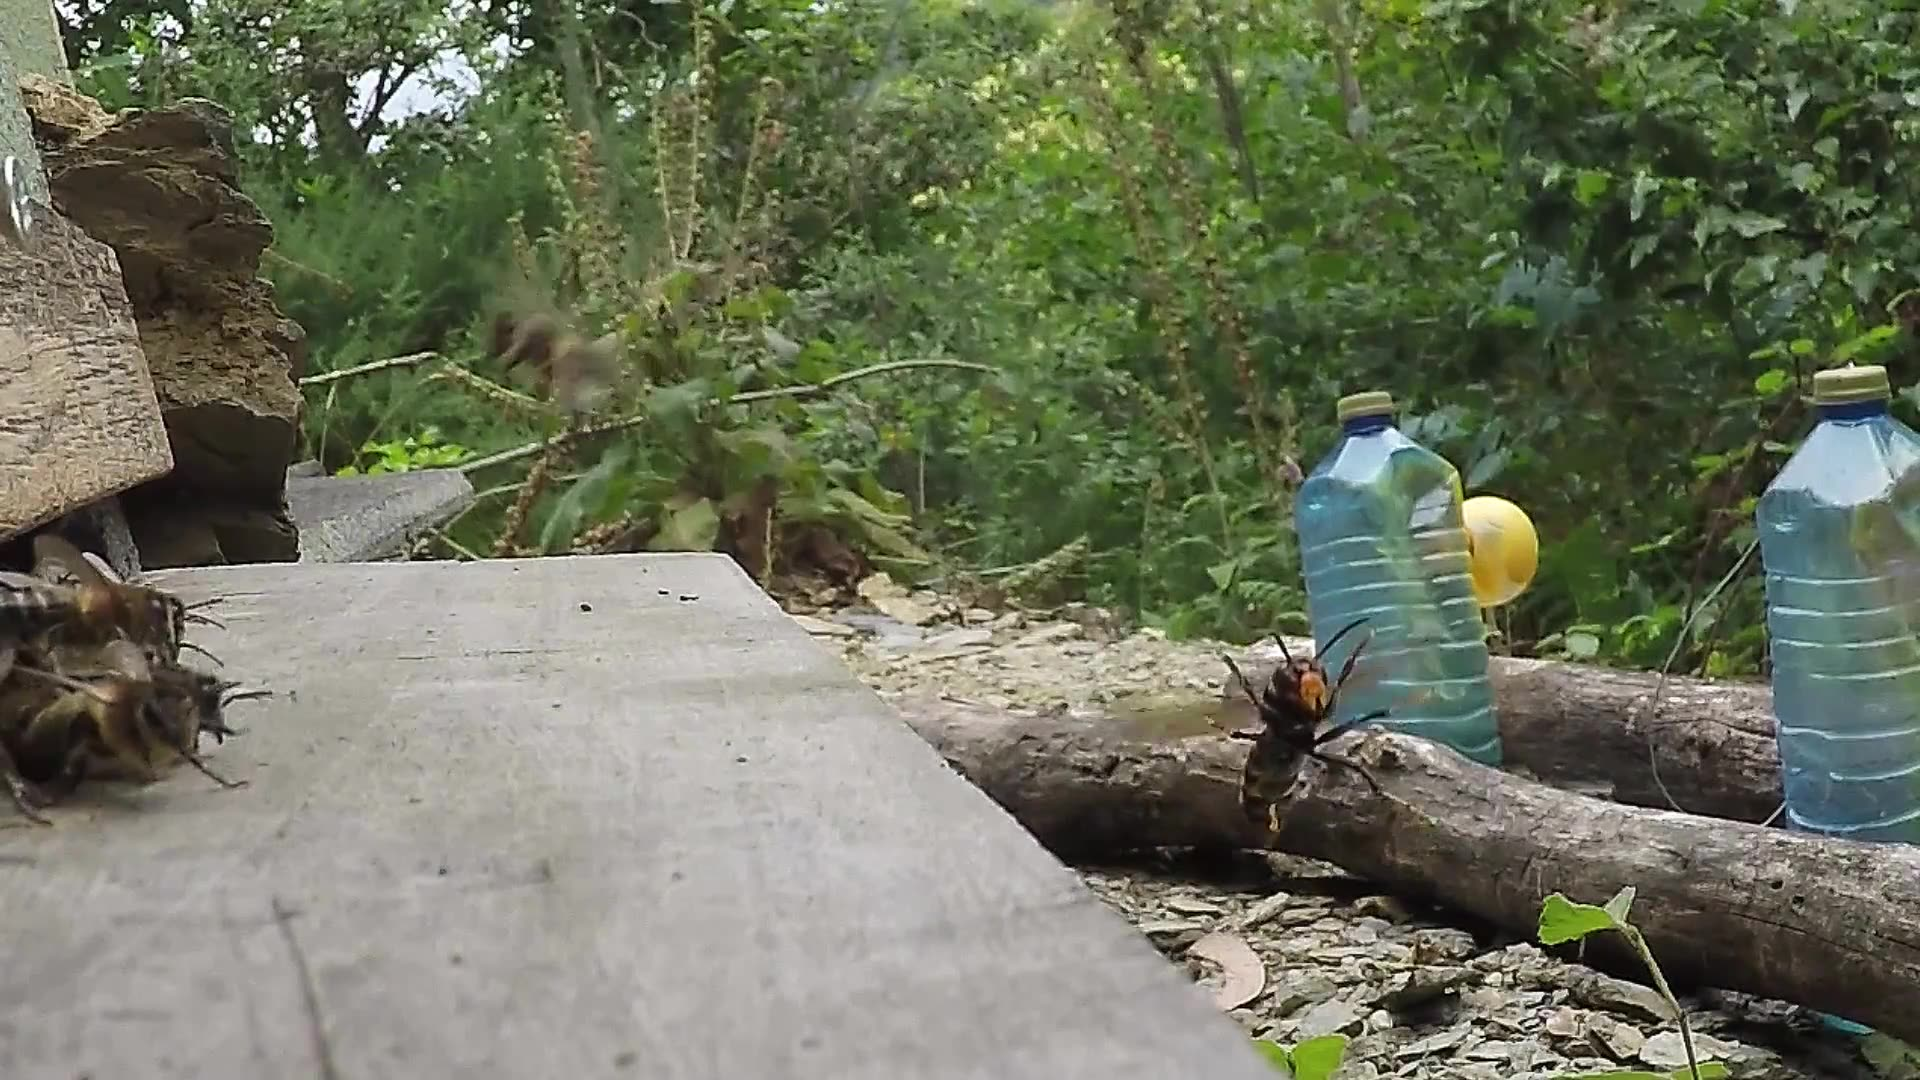bee: (1, 537, 268, 822)
hornet: (1224, 640, 1373, 852)
